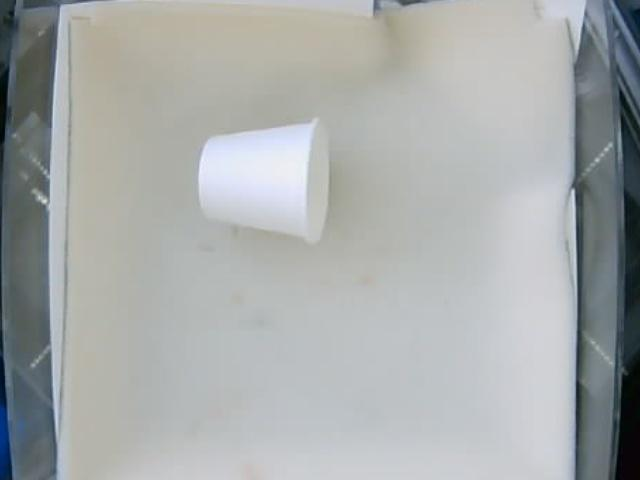Cup: (198, 118, 329, 242)
